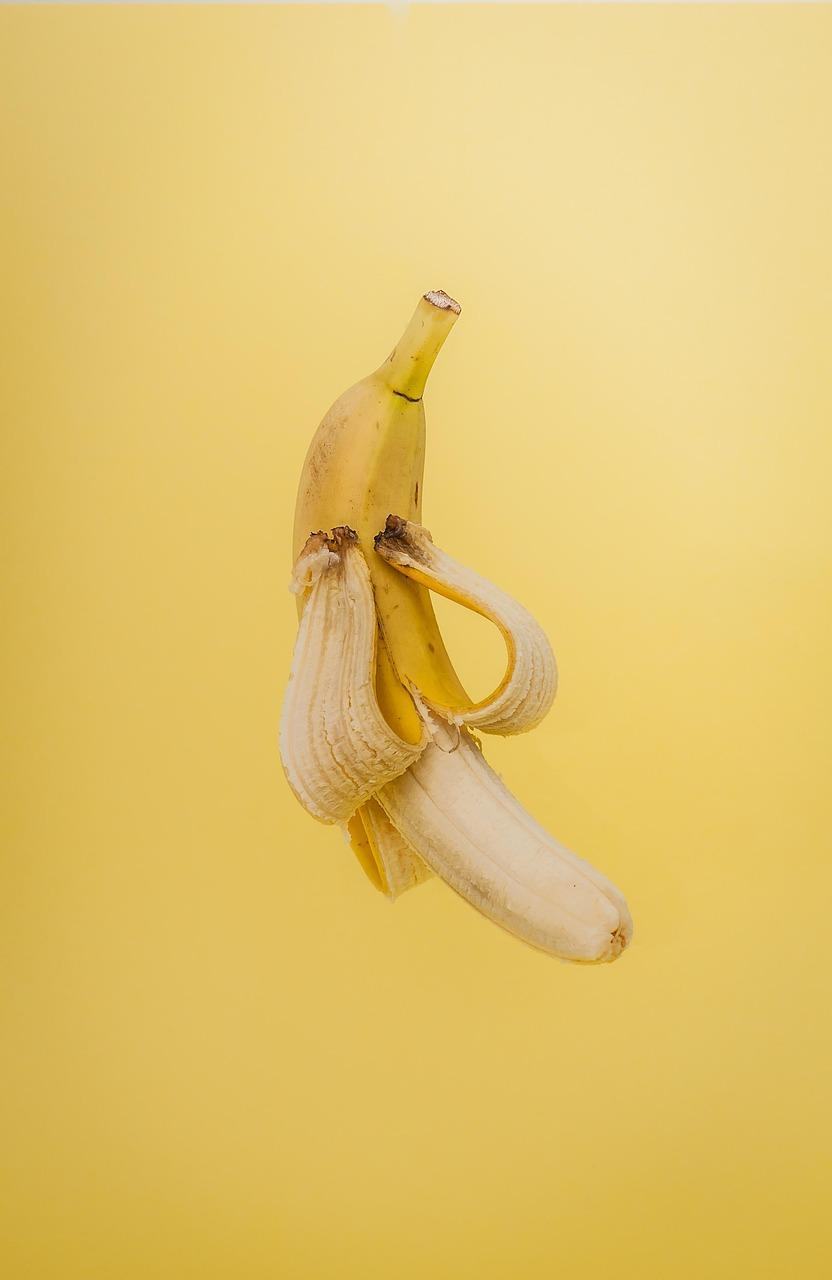banana: (226, 246, 652, 976)
